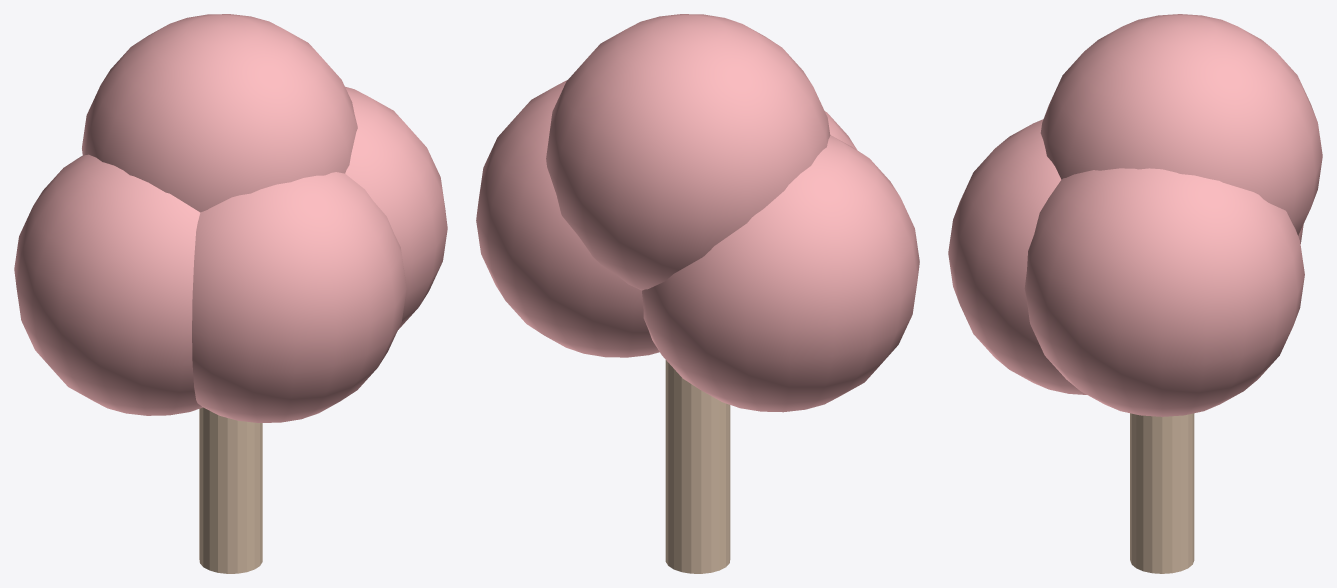
File: tree-blossom.glb
The picture shows the model from 3 angles, left to right: view 1: azimuth 30°, elevation 25°; view 2: azimuth 150°, elevation 25°; view 3: azimuth 270°, elevation 25°; orthographic projection. The views are drawn at different scales.
Visible parts, largest first — view 1: canopy3, canopy2, canopy0, canopy1, trunk; view 2: canopy2, canopy0, canopy1, trunk; view 3: canopy1, canopy2, canopy3, trunk.
Part boxes in pixels (left/top/right/bottom): canopy3: left=192, top=172, right=406, bottom=422; canopy2: left=82, top=14, right=357, bottom=212; canopy0: left=14, top=154, right=202, bottom=415; canopy1: left=345, top=86, right=447, bottom=329; trunk: left=199, top=407, right=262, bottom=573; canopy2: left=546, top=14, right=830, bottom=290; canopy0: left=642, top=135, right=919, bottom=412; canopy1: left=476, top=80, right=659, bottom=357; trunk: left=665, top=360, right=730, bottom=573; canopy1: left=1024, top=168, right=1304, bottom=416; canopy2: left=1040, top=14, right=1322, bottom=235; canopy3: left=948, top=119, right=1086, bottom=394; trunk: left=1130, top=413, right=1194, bottom=573.
Bounding box in the file's own units: 1.3 × 1.65 × 1.05.
